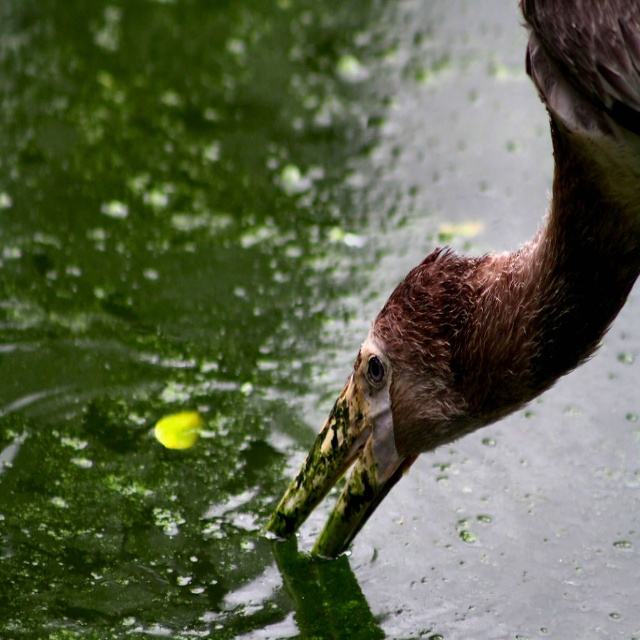Duck: (266, 0, 640, 567)
